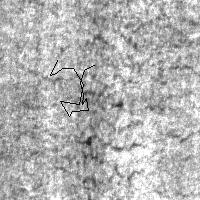crazing: (85, 12, 193, 70), (62, 134, 142, 184), (20, 68, 112, 111), (50, 60, 94, 116)
